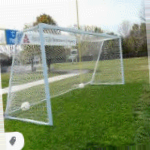goals: (5, 21, 125, 126)
